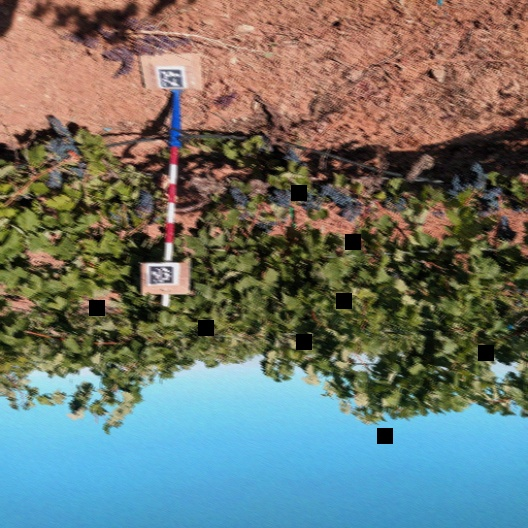QR: (146, 265, 175, 284), (158, 69, 182, 88)
